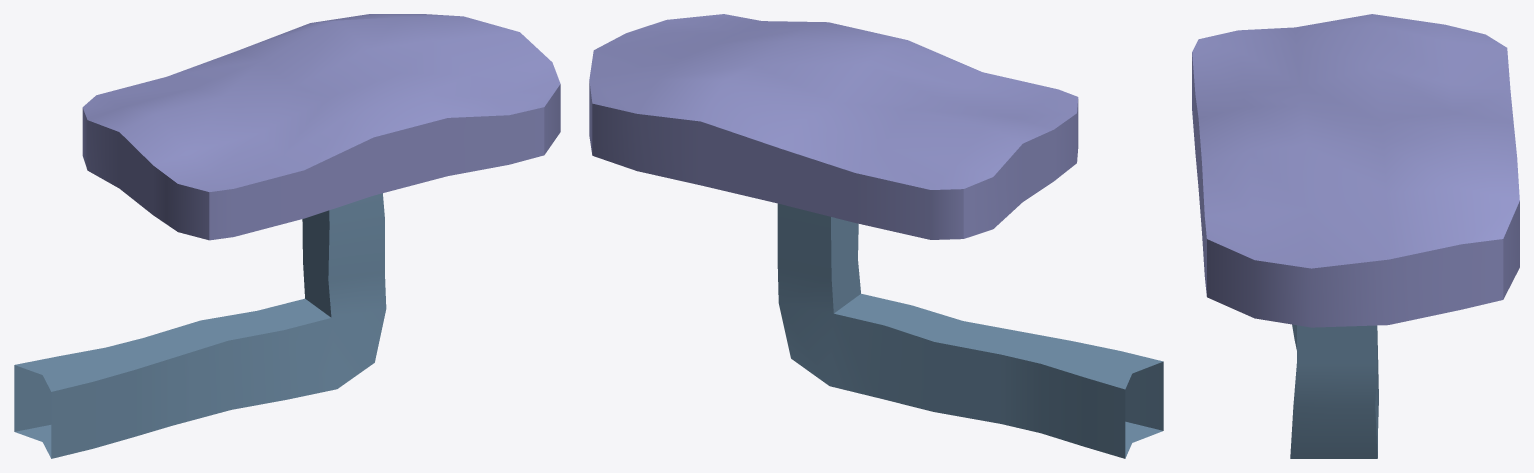
The model's file is Night_tree_Limb1.fbx.
3 views of the same model, side by side, from view 1: azimuth 30°, elevation 25°; view 2: azimuth 150°, elevation 25°; view 3: azimuth 270°, elevation 25° (orthographic). The views are drawn at different scales.
Parts seen in each view (by area): view 1: pCube2, pCube1; view 2: pCube2, pCube1; view 3: pCube2, pCube1.
Part boxes in pixels (x1,y1,x2,y2): pCube2: [82, 14, 560, 240]; pCube1: [14, 193, 386, 458]; pCube2: [589, 14, 1078, 239]; pCube1: [777, 203, 1163, 458]; pCube2: [1192, 14, 1519, 327]; pCube1: [1290, 324, 1378, 458].
Size of the model in its own units: 31.34 by 17.71 by 14.42.
